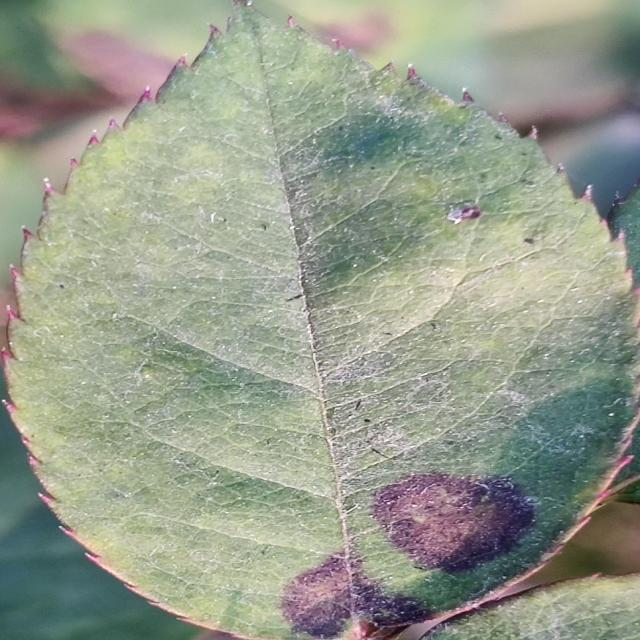Black_spot: (368, 468, 538, 577)
Rose: (1, 2, 638, 638)
